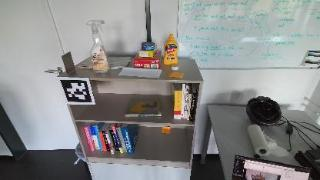book-spine: (111, 125, 123, 154), (121, 127, 133, 155), (116, 126, 127, 153), (83, 126, 94, 152), (109, 129, 120, 152), (173, 91, 182, 119), (90, 125, 100, 150), (94, 125, 103, 151), (105, 130, 114, 154), (102, 130, 111, 153), (183, 85, 189, 119), (190, 92, 196, 122), (181, 84, 186, 117), (99, 132, 107, 152), (187, 93, 192, 120), (125, 114, 162, 117)
